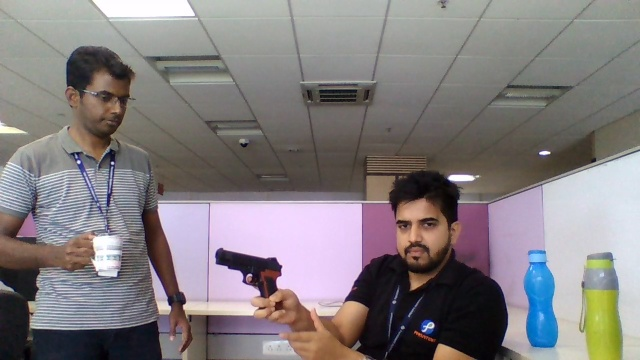gun: (214, 248, 280, 291)
